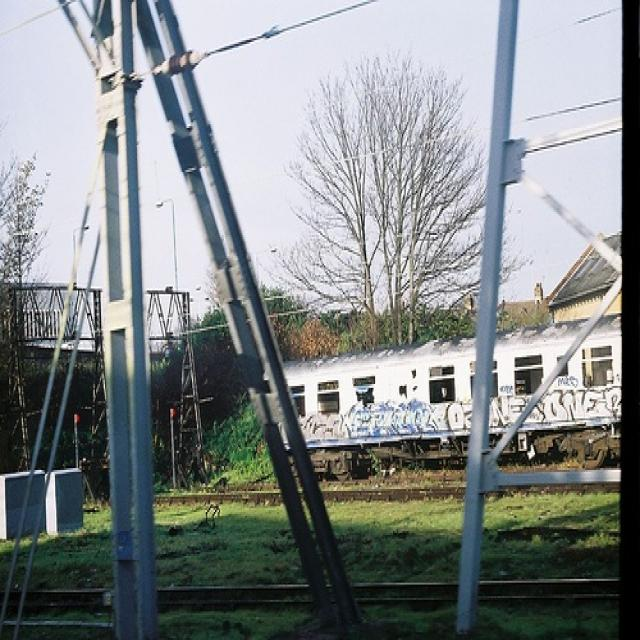train: (250, 313, 624, 470)
